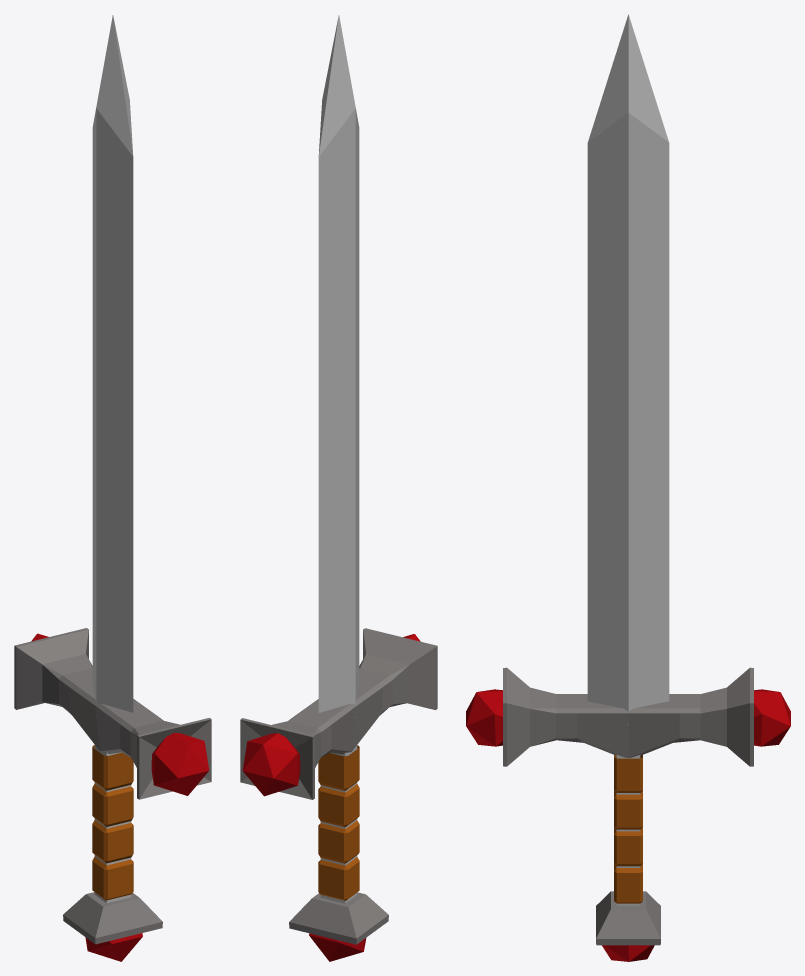
Rendered from sword.fbx.
The picture shows the model from 3 angles, left to right: view 1: azimuth 30°, elevation 25°; view 2: azimuth 150°, elevation 25°; view 3: azimuth 270°, elevation 25°; orthographic projection.
Visible parts, largest first — view 1: blade, gaurd, handle, handle tip, gemL, gemB; view 2: blade, gaurd, handle, handle tip, gemR, gemB; view 3: blade, gaurd, handle, handle tip, gemR, gemL, gemB.
Boxes of the visible parts, x1,y1,x2,y2 form: blade: (92, 15, 133, 903); gaurd: (14, 628, 211, 799); handle: (92, 745, 133, 900); handle tip: (63, 892, 162, 944); gemL: (151, 733, 209, 795); gemB: (85, 933, 142, 961); blade: (318, 15, 359, 903); gaurd: (240, 628, 437, 799); handle: (318, 745, 359, 900); handle tip: (289, 892, 388, 944); gemR: (242, 733, 300, 796); gemB: (309, 933, 366, 961); blade: (587, 14, 669, 906); gaurd: (503, 667, 753, 766); handle: (614, 755, 642, 903); handle tip: (596, 891, 660, 945); gemR: (754, 689, 790, 746); gemL: (466, 689, 502, 746); gemB: (602, 945, 654, 961).
Bounding box in the file's own units: 55.99 × 694 × 216.
